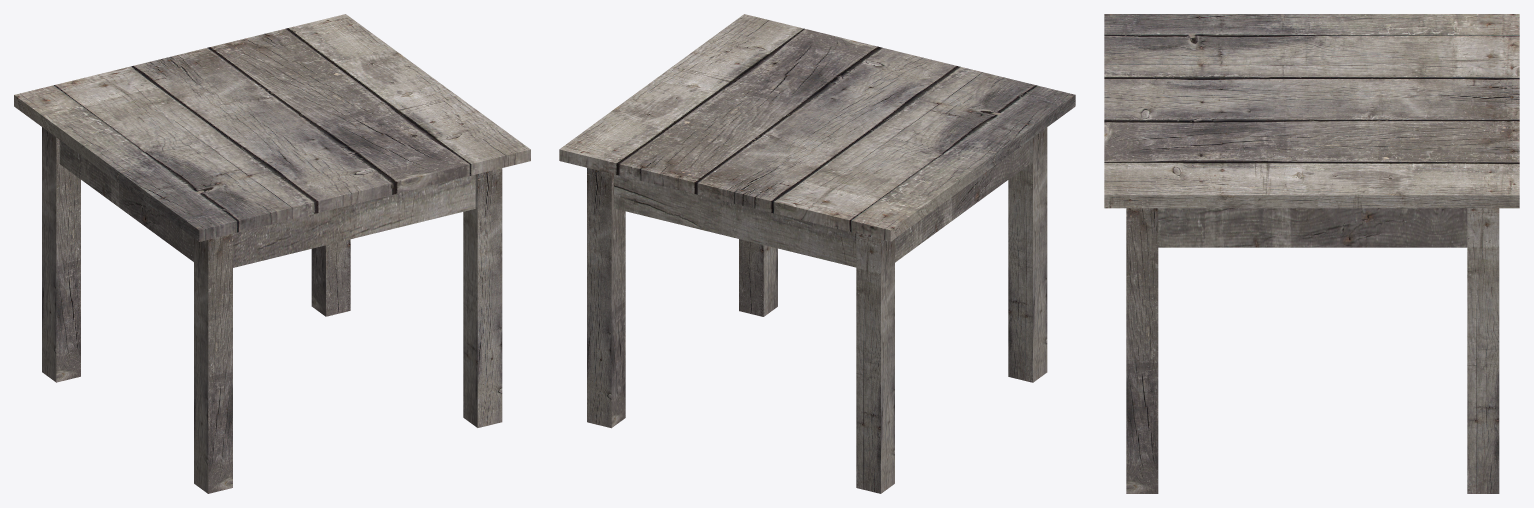
File: tableSmall.FBX
3 renders of one model, left to right at view 1: azimuth 30°, elevation 25°; view 2: azimuth 150°, elevation 25°; view 3: azimuth 270°, elevation 25°, orthographic. The views are drawn at different scales.
Visible parts, largest first — view 1: tableSmall; view 2: tableSmall; view 3: tableSmall.
Part boxes in pixels (<box>): tableSmall: <box>14,14,530,493</box>; tableSmall: <box>559,14,1075,493</box>; tableSmall: <box>1104,14,1519,493</box>.
Bounding box in the file's own units: 0.375 × 0.2973 × 0.3626.
